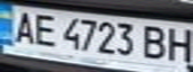2: (97, 18, 118, 56)
3: (115, 19, 142, 58)
4: (57, 16, 81, 51)
7: (78, 16, 100, 53)
A: (9, 8, 39, 45)
B: (139, 22, 172, 61)
E: (30, 11, 60, 47)
H: (163, 25, 193, 63)
